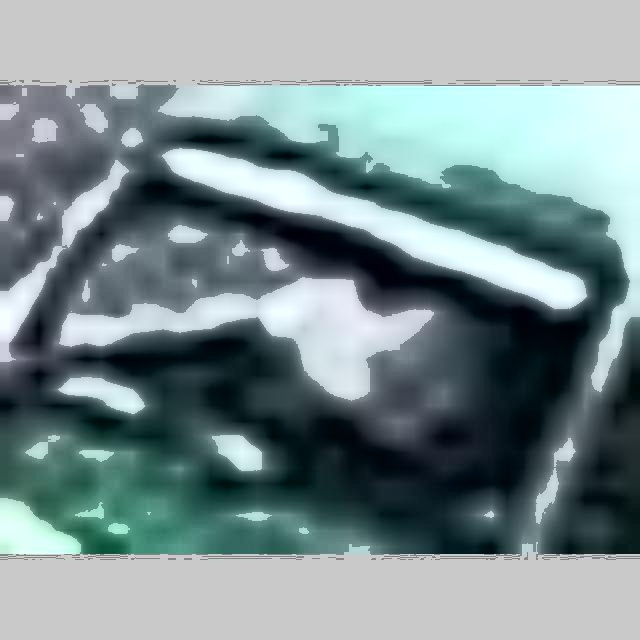tidak-pakai: (250, 226, 453, 445)
